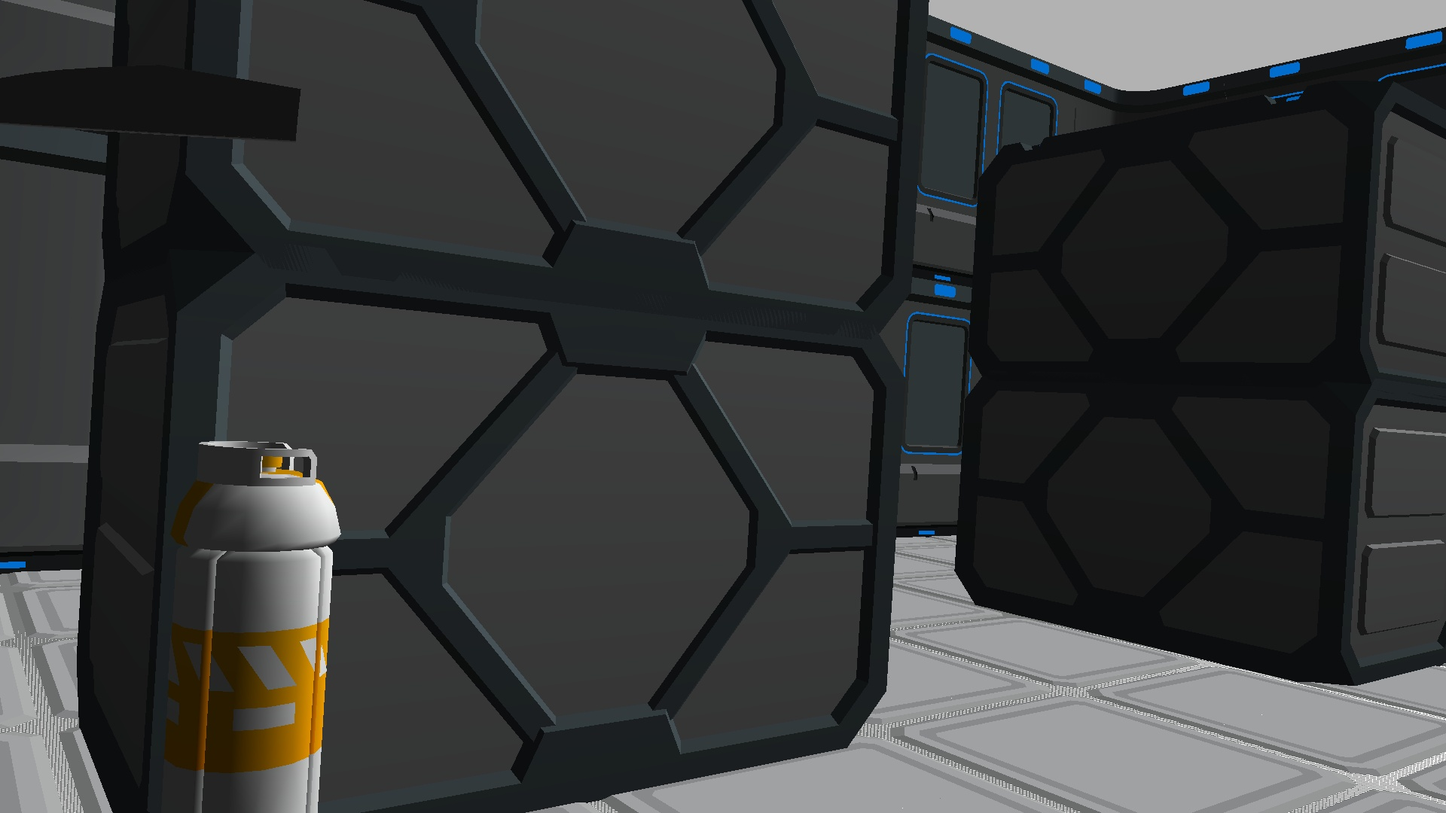yellow barrel: (161, 440, 340, 813)
